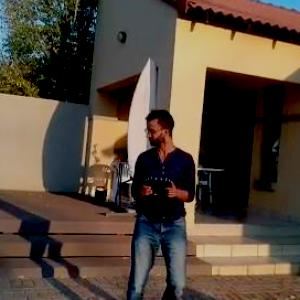follow: (122, 104, 199, 299)
